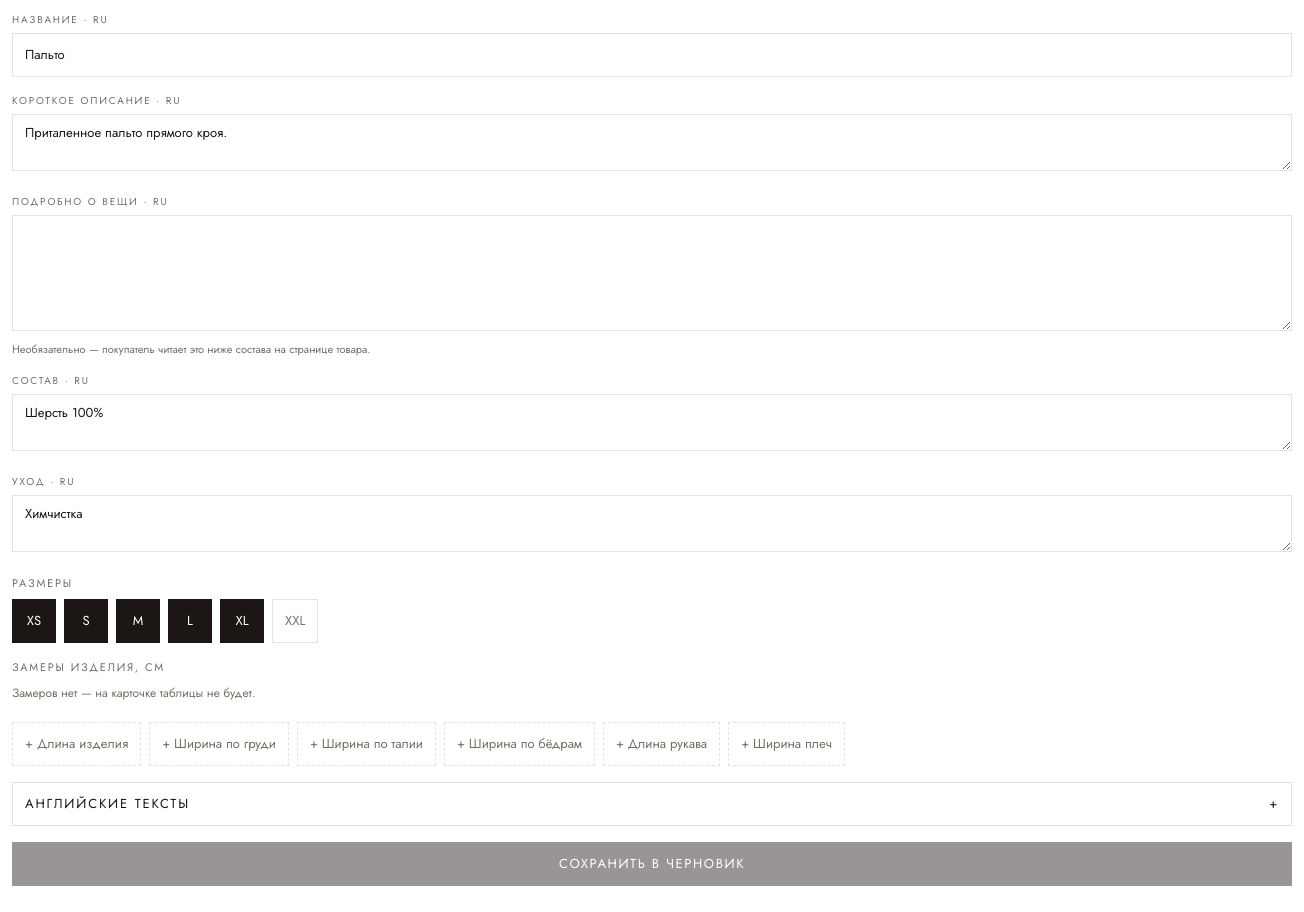
Test: ModelForm — ошибки сервера › errors: [{field: "nameRu", …}] рисует русский текст у поля «Название · ru»
The width and height of the screenshot is (1304, 912).
Expected: the field labelled "Название · ru" is shown, x1=12 y1=33 x2=1292 y2=77
Type ", деликатный режим" into the text box labelled "Уход · ru". click: (652, 523)
box: x1=12 y1=495 x2=1292 y2=552
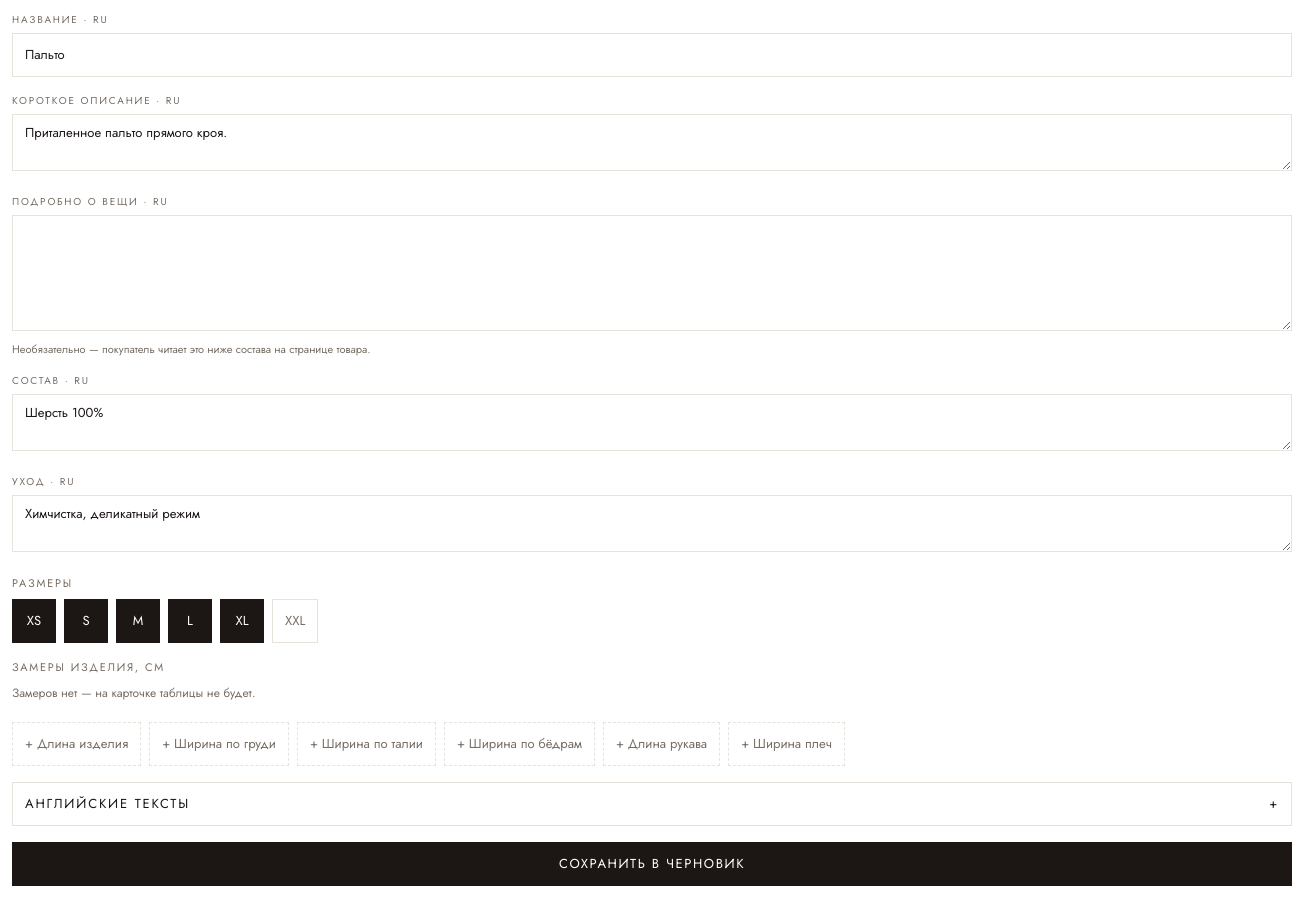
Click the button "Сохранить в черновик". click: (652, 864)
box: x1=12 y1=842 x2=1292 y2=886
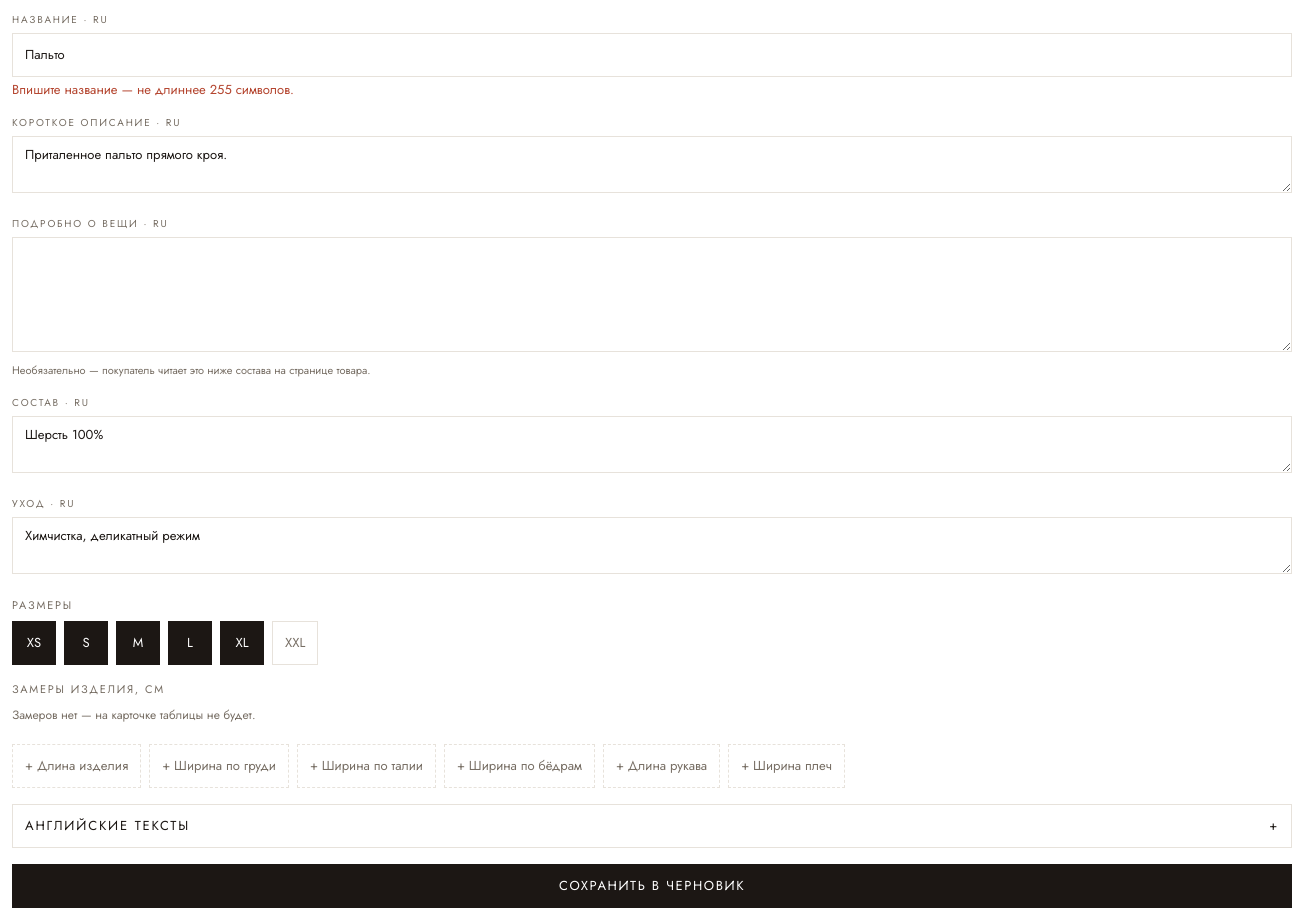
Expected: the text "Впишите название — не длиннее 255 символов." is shown, x1=12 y1=80 x2=294 y2=99
